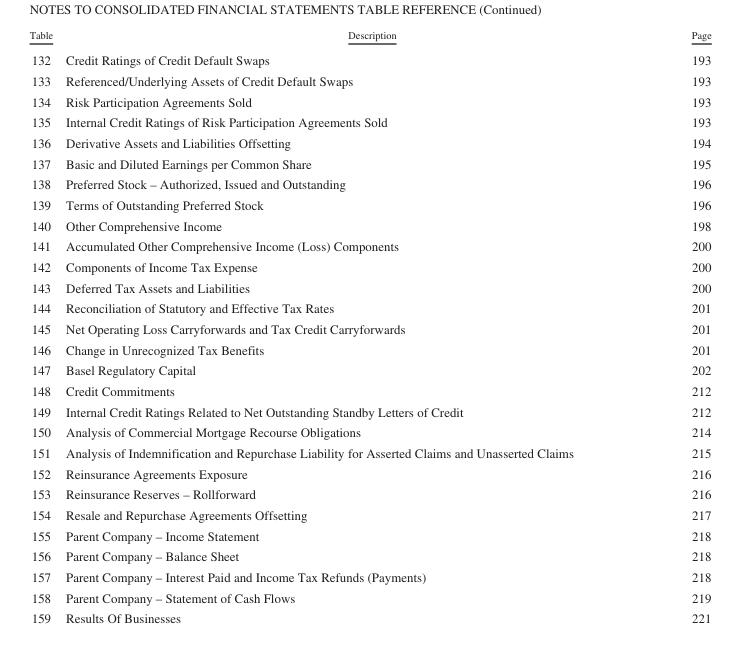table: (28, 29, 710, 625)
table column: (58, 29, 631, 625), (631, 29, 710, 625), (28, 29, 58, 625)
table column header: (28, 29, 710, 46)
table row: (28, 46, 710, 70), (28, 90, 710, 111), (28, 111, 710, 132), (28, 152, 710, 173), (28, 173, 710, 194), (28, 214, 710, 235), (28, 235, 710, 256), (28, 276, 710, 297), (28, 297, 710, 318), (28, 338, 710, 359), (28, 359, 710, 380), (28, 400, 710, 421), (28, 421, 710, 442), (28, 442, 710, 463), (28, 483, 710, 504), (28, 504, 710, 525), (28, 545, 710, 566), (28, 566, 710, 587), (28, 70, 710, 90), (28, 132, 710, 152), (28, 194, 710, 214), (28, 256, 710, 276), (28, 318, 710, 338), (28, 380, 710, 400), (28, 463, 710, 483), (28, 525, 710, 545), (28, 587, 710, 607), (28, 607, 710, 625), (28, 29, 710, 46)
